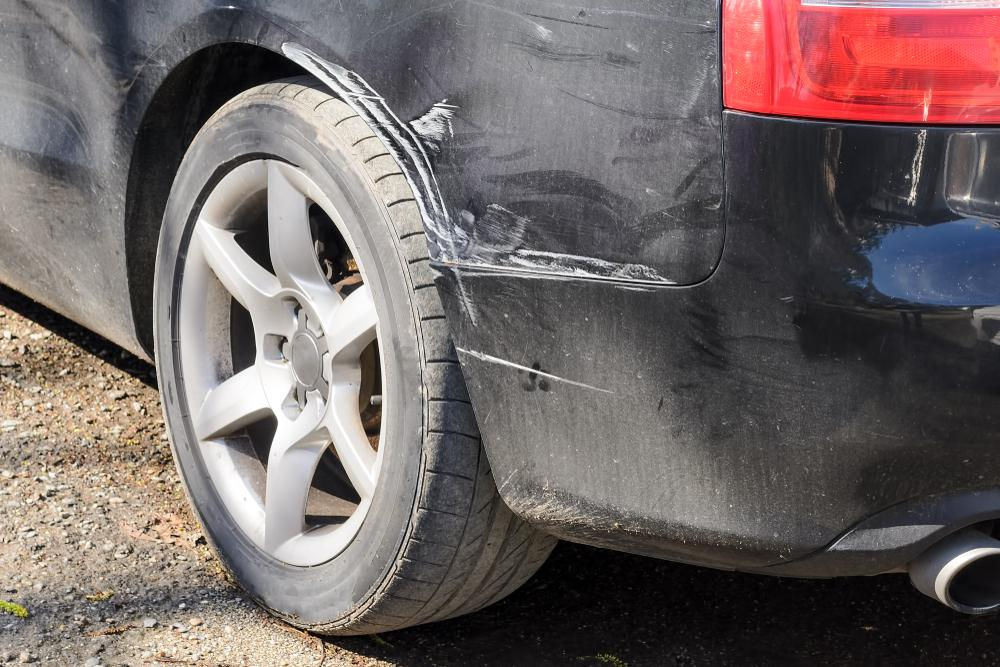scratch: (281, 44, 686, 286), (451, 341, 631, 402), (450, 268, 563, 325)
